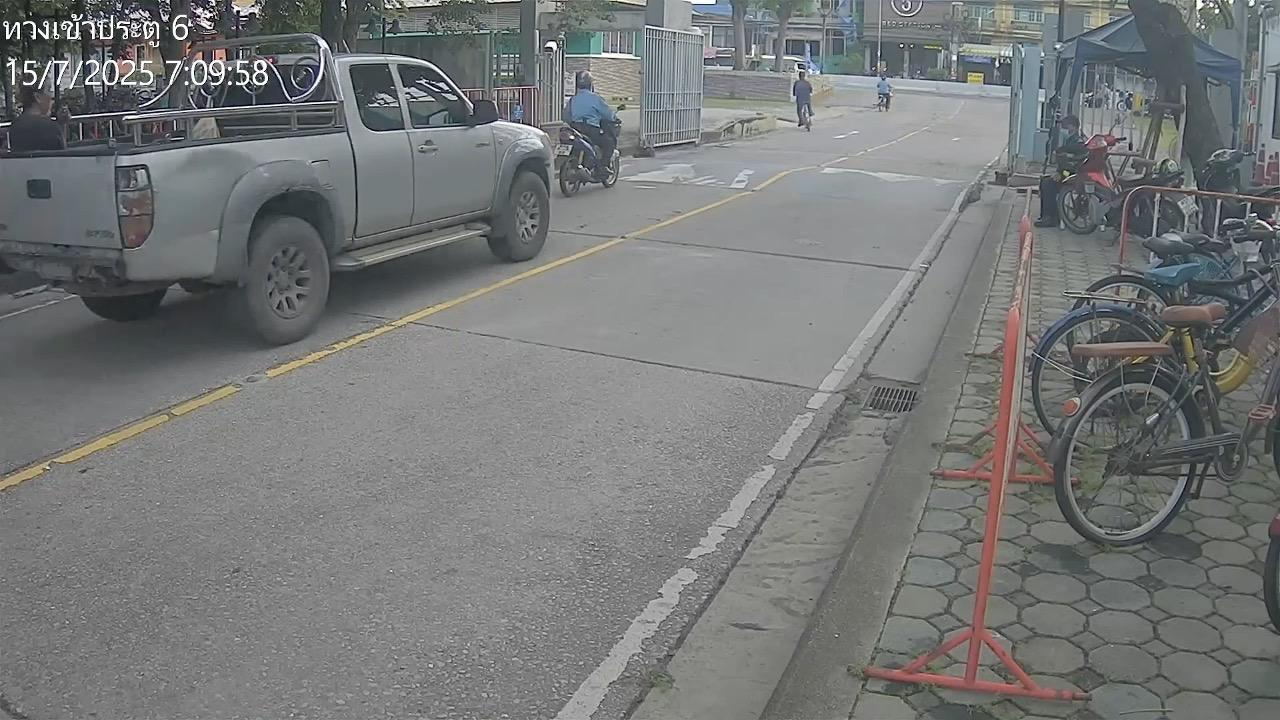With-Helmet: (575, 69, 594, 90)
